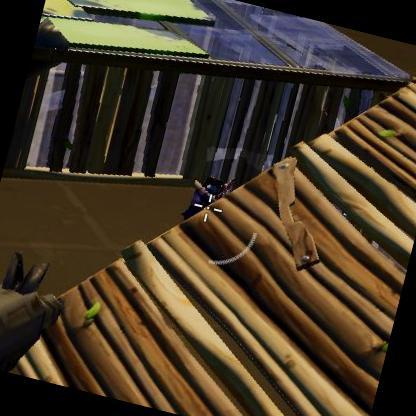person: (178, 171, 228, 228)
